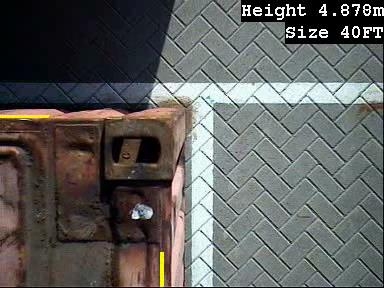groundmarker_2: (184, 182, 236, 221)
